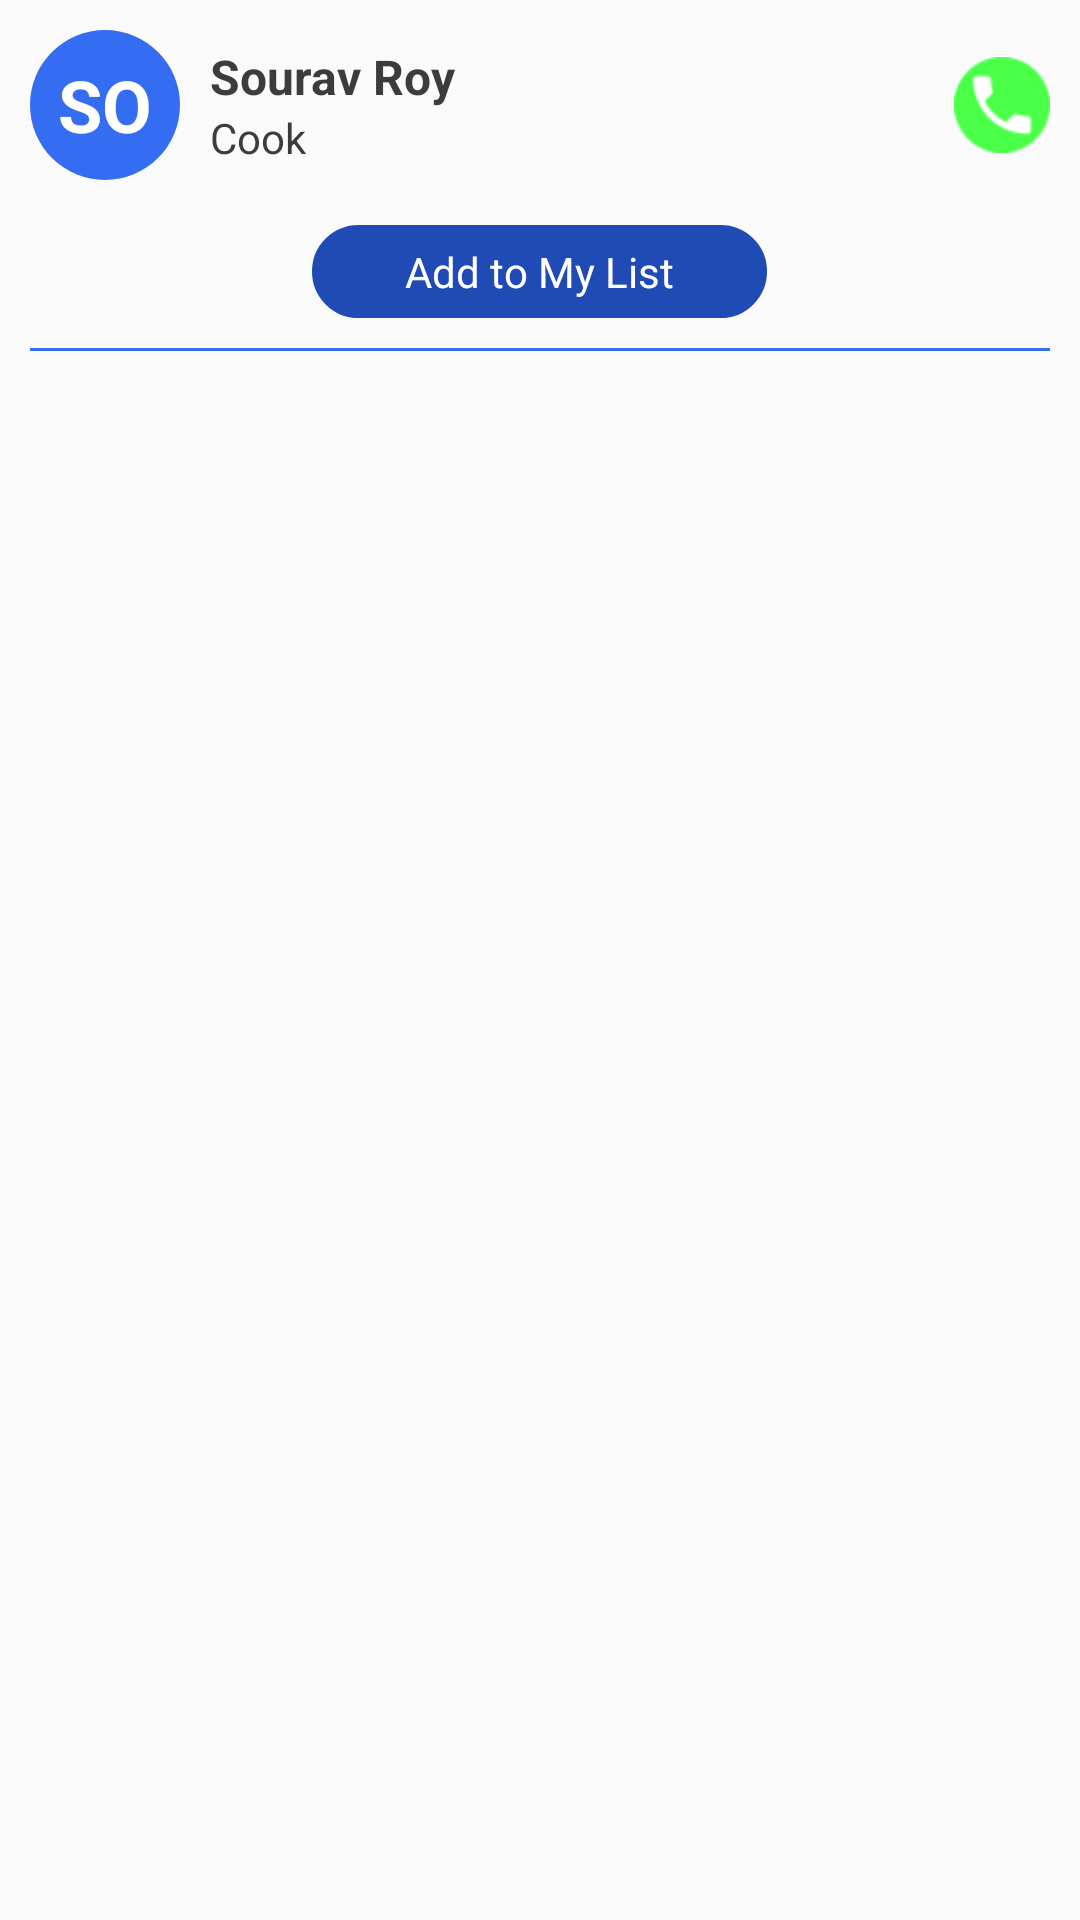

Icons on this 1080 × 1920 Android screen, each with its box as (x1, y1, x2, y2):
phone: (954, 57, 1050, 153)
